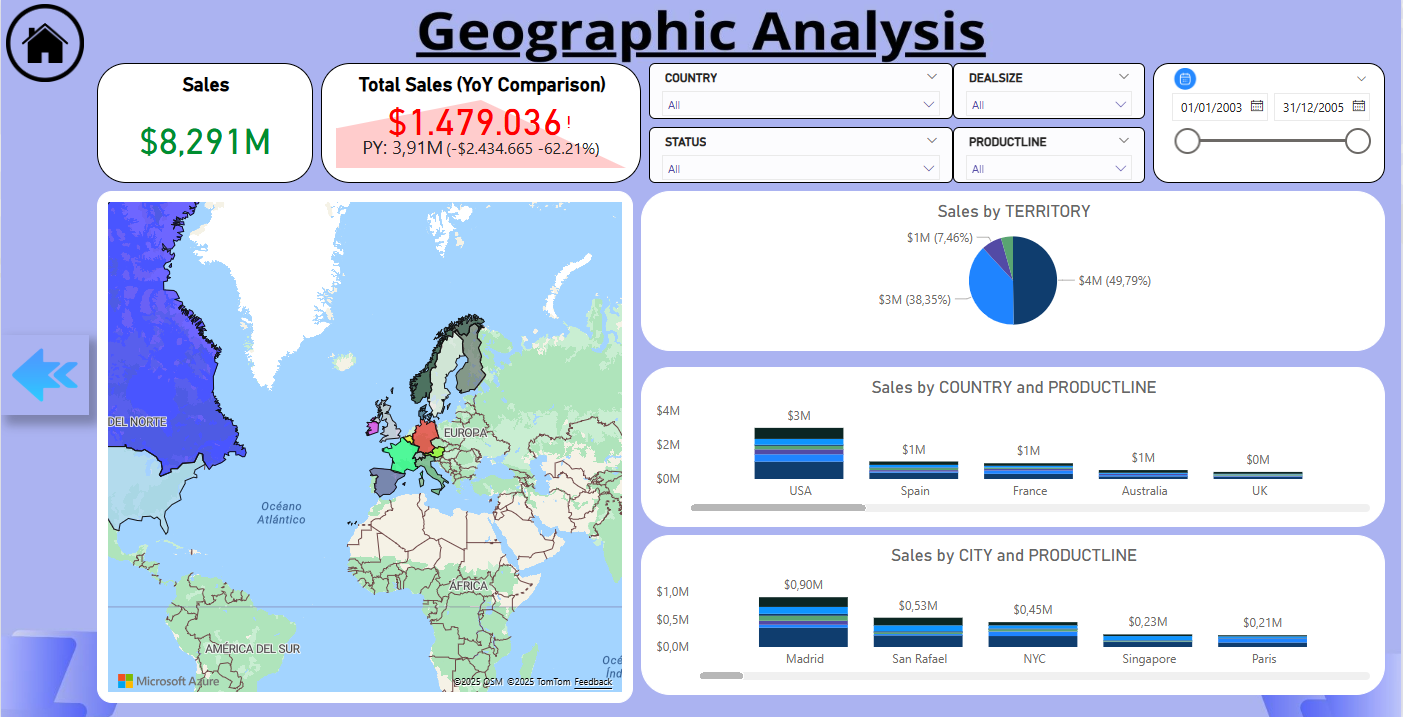

The dashboard page shown, as its layout file describes it:
{"tool":"powerbi","page":{"name":"Geographic Analysis","canvas":[1400,720],"ordinal":8},"visuals":[{"type":"slicer","fields":{"Values":["Dim_Calendar.Date"]},"box":[1152,64,232,120],"z":0},{"type":"image","box":[1160,64,48,32],"z":1000},{"type":"image","box":[0,0,88,88],"z":2000},{"type":"image","box":[0,336,88,80],"z":3000},{"type":"azureMap","fields":{"Category":["Dim_Customer.COUNTRY"]},"box":[96,192,536,512],"z":4000},{"type":"columnChart","fields":{"Y":["Measure.002 $ Total_Sales"],"Series":["Dim_Product.PRODUCTLINE"],"Category":["Dim_Customer.CITY"]},"box":[640,536,744,160],"z":5000},{"type":"columnChart","fields":{"Category":["Dim_Customer.COUNTRY"],"Y":["Measure.002 $ Total_Sales"],"Series":["Dim_Product.PRODUCTLINE"]},"box":[640,368,744,160],"z":6000},{"type":"pieChart","fields":{"Category":["Dim_Customer.TERRITORY"],"Y":["Measure.002 $ Total_Sales"]},"box":[640,192,744,160],"z":7000},{"type":"slicer","fields":{"Values":["Dim_Customer.COUNTRY"]},"box":[648,64,304,56],"z":8000},{"type":"cardVisual","title":"Sales","fields":{"Data":["Measure.002 $ Total_Ventas"]},"box":[96,64,216,120],"z":9000},{"type":"slicer","fields":{"Values":["Dim_Status.STATUS"]},"box":[648,128,304,56],"z":10000},{"type":"slicer","fields":{"Values":["Dim_DealSize.DEALSIZE"]},"box":[952,64,192,56],"z":11000},{"type":"slicer","fields":{"Values":["Dim_Product.PRODUCTLINE"]},"box":[952,128,192,56],"z":12000},{"type":"kpi","title":"Total Sales (YoY Comparison)","fields":{"Indicator":["Measure.002 $ Total_Sales"],"Goal":["Measure.022 $ Total_Sales_PY"],"TrendLine":["Dim_Calendar.Year"]},"box":[320,64,320,120],"z":13000}]}

Visuals, with their boxes in screenshot pixels (x1, y1, x2, y2), scaled from the page's 1400x720 canvas onto the 1403x717 screenshot:
slicer - Dim_Calendar.Date: Rect(1154, 64, 1387, 183)
image: Rect(1162, 64, 1211, 96)
image: Rect(0, 0, 88, 88)
image: Rect(0, 335, 88, 414)
azureMap - Dim_Customer.COUNTRY: Rect(96, 191, 633, 701)
columnChart - Measure.002 $ Total_Sales x Dim_Product.PRODUCTLINE: Rect(641, 534, 1387, 693)
columnChart - Dim_Customer.COUNTRY x Measure.002 $ Total_Sales: Rect(641, 366, 1387, 526)
pieChart - Dim_Customer.TERRITORY x Measure.002 $ Total_Sales: Rect(641, 191, 1387, 351)
slicer - Dim_Customer.COUNTRY: Rect(649, 64, 954, 120)
"Sales" cardVisual: Rect(96, 64, 313, 183)
slicer - Dim_Status.STATUS: Rect(649, 127, 954, 183)
slicer - Dim_DealSize.DEALSIZE: Rect(954, 64, 1146, 120)
slicer - Dim_Product.PRODUCTLINE: Rect(954, 127, 1146, 183)
"Total Sales (YoY Comparison)" kpi: Rect(321, 64, 641, 183)
